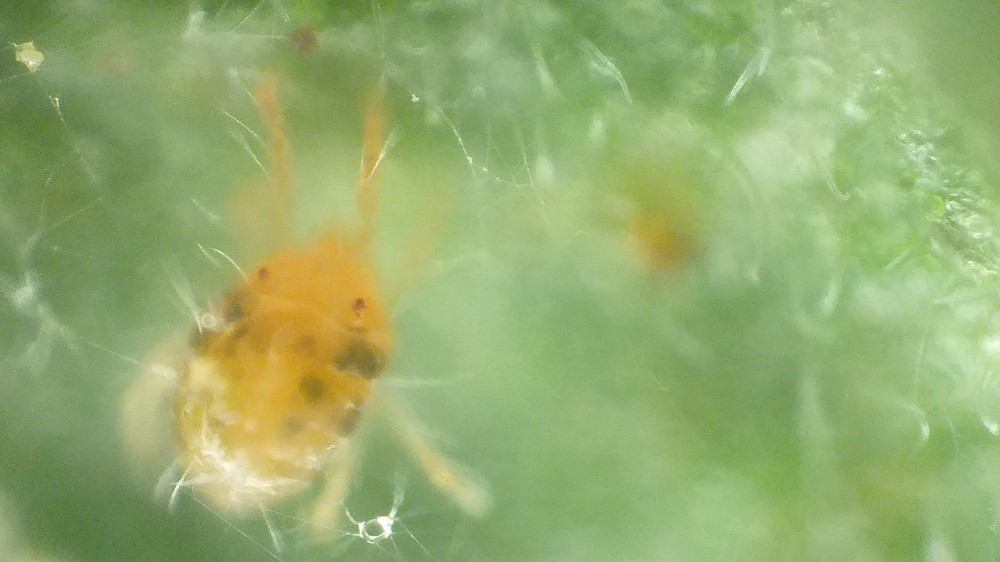Aracnido Rojo: (111, 64, 521, 549)
